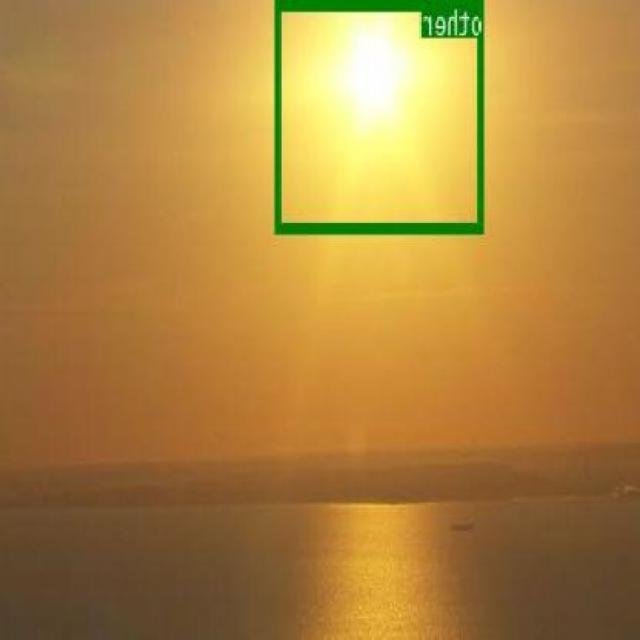other: (278, 0, 486, 232)
